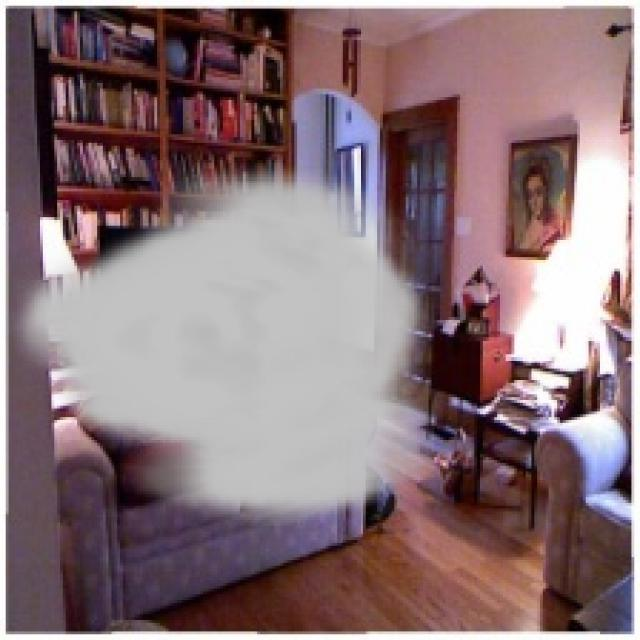smoke: (9, 157, 434, 526)
